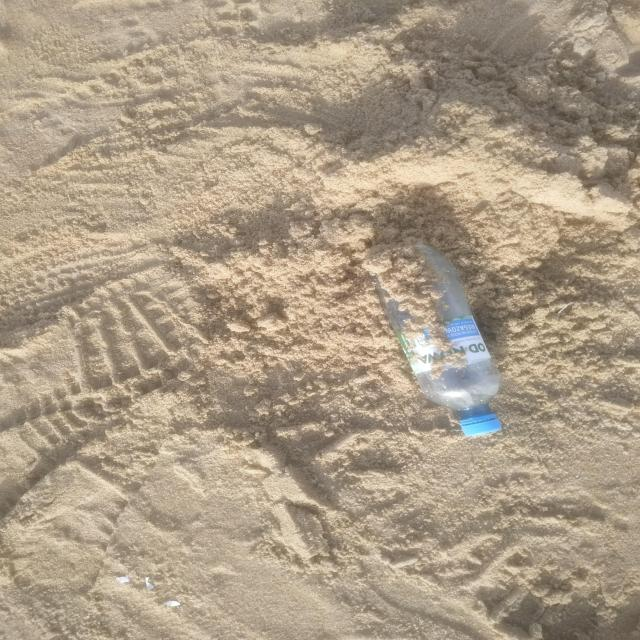litter: (365, 244, 503, 439)
